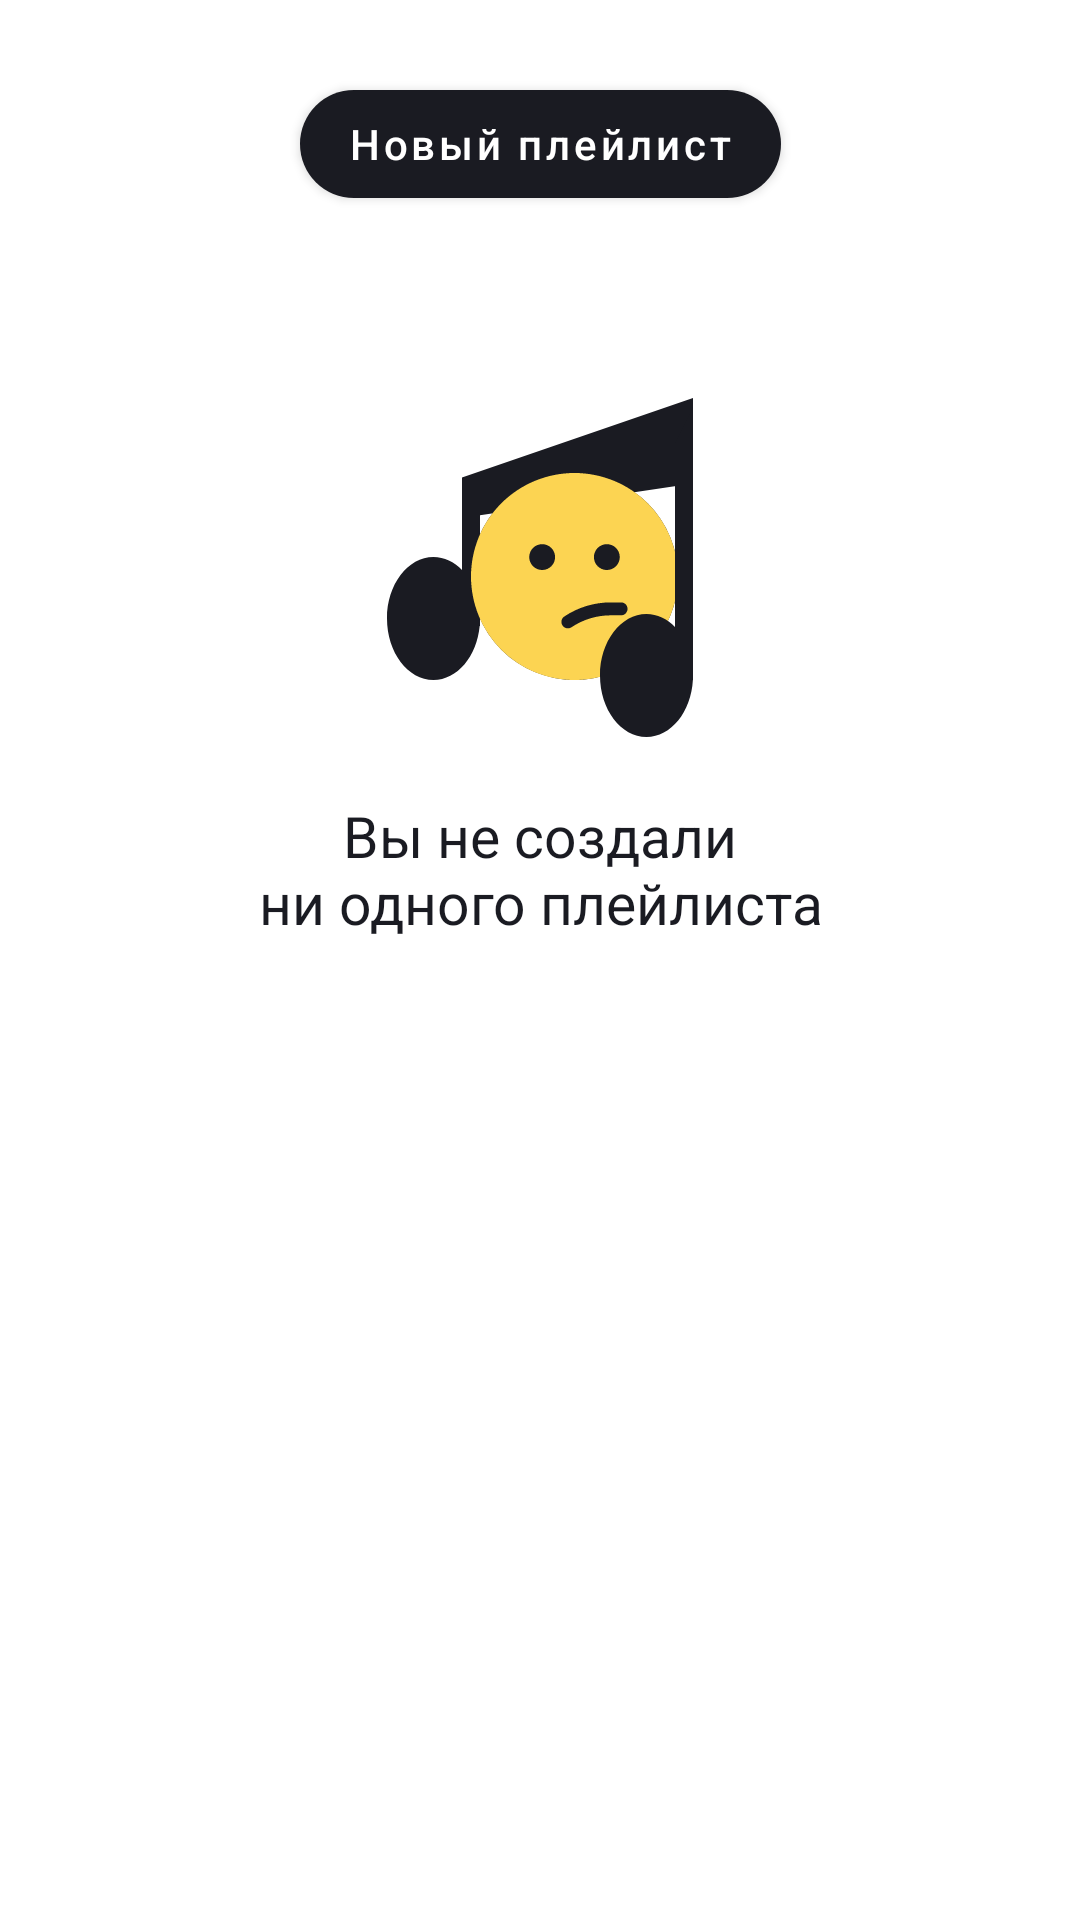

Where to tap for icons on this 1080 × 1920 app screen, as (x=x, y=y):
music empty: (x=540, y=567)
